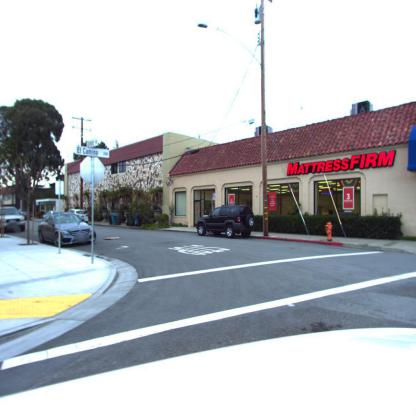car: (194, 204, 259, 238), (37, 212, 96, 248), (1, 206, 26, 233), (68, 210, 89, 224)
fire hydrant: (324, 221, 333, 241)
stop sign: (80, 159, 104, 188)
